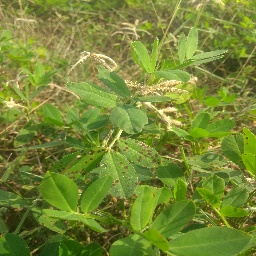GroundNut_Leaf: (170, 225, 253, 254), (105, 148, 138, 198), (37, 170, 78, 210), (80, 175, 114, 215), (119, 139, 161, 170), (65, 82, 115, 108), (111, 104, 149, 137), (129, 186, 157, 230), (177, 26, 199, 61), (129, 40, 150, 73), (190, 112, 211, 138)
